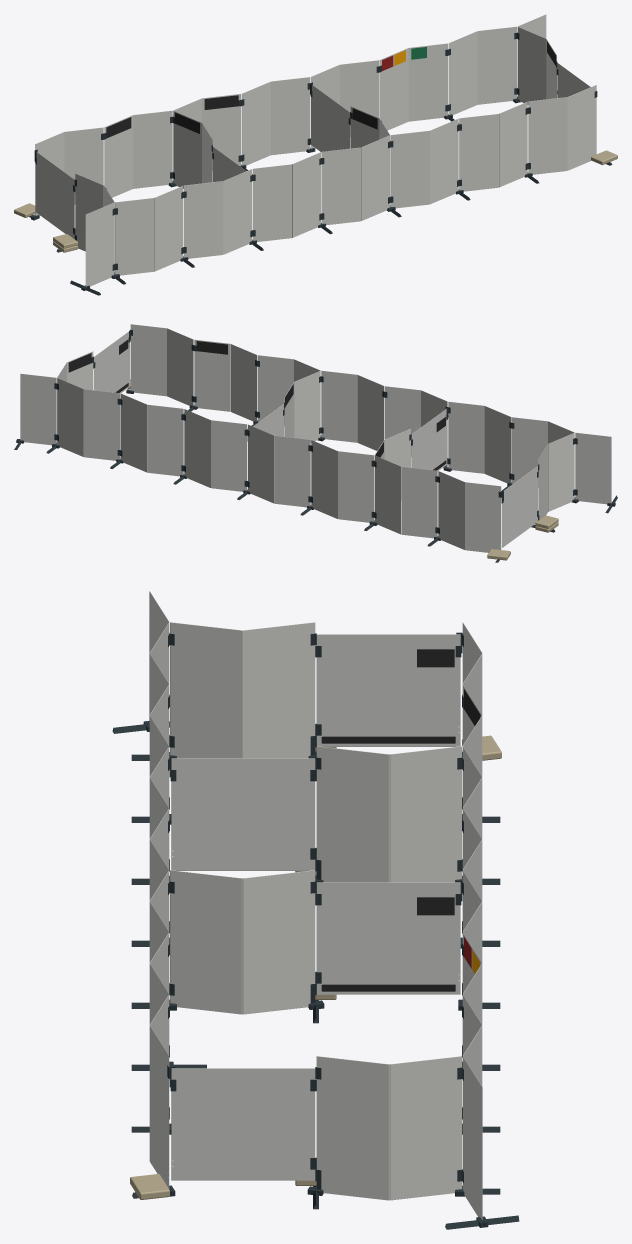
3 views of the same model, one above another, from view 1: azimuth 30°, elevation 25°; view 2: azimuth 150°, elevation 25°; view 3: azimuth 270°, elevation 25° (orthographic). The views are drawn at different scales.
Parts seen in each view (by area): view 1: P12 duo, wall A 2, P12 duo, wall A 6, P12 duo, wall A 4, P12 duo, wall B 7, P12 duo, wall A 1, P12 duo, wall B 4, P12 duo, wall A 5, P12 duo, wall A 7, P12 duo, wall A 3, P12 duo, wall B 2, P12 duo, wall B 6, P12 duo, wall B 1 (+13 smaller); view 2: P12 duo, wall A 2, P12 duo, wall B 6, P12 duo, wall A 7, P12 duo, wall B 7, P12 duo, wall B 5, P12 duo, wall B 3, P12 duo, wall B 1, P12 duo, wall B 4, P12 duo, wall B 2, P12 duo, wall A 4, P12 duo, wall A 6, L12 corner tail leaf, A0 (+13 smaller); view 3: P12 duo, stub divider 2, P12 duo, stub right end, P12 duo, stub divider 1, P12 duo, stub left end, Flap leaf, door 1, Flap leaf, exit, Flap leaf, door 2, Flap leaf, entry, P12 duo, wall A 7, L12 corner tail leaf, B7, P12 duo, wall B 1, P12 duo, wall B 3 (+13 smaller).
Part boxes in pixels (x1,y1,x2,y2): P12 duo, wall A 2: (184,169,252,258); P12 duo, wall A 6: (459,102,527,191); P12 duo, wall A 4: (321,135,389,225); P12 duo, wall B 7: (448,26,516,114); P12 duo, wall A 1: (115,186,183,275); P12 duo, wall B 4: (242,77,310,165); P12 duo, wall A 5: (390,118,458,208); P12 duo, wall A 7: (528,85,596,174); P12 duo, wall A 3: (253,152,320,241); P12 duo, wall B 2: (104,110,172,197); P12 duo, wall B 6: (379,43,447,130); P12 duo, wall B 1: (35,127,103,215); P12 duo, wall A 2: (448,401,511,483); P12 duo, wall B 6: (120,393,183,476); P12 duo, wall A 7: (130,324,193,405); P12 duo, wall B 7: (57,378,120,460); P12 duo, wall B 5: (184,409,247,491); P12 duo, wall B 3: (311,440,374,522); P12 duo, wall B 1: (438,471,501,552); P12 duo, wall B 4: (248,424,310,507); P12 duo, wall B 2: (375,455,437,538); P12 duo, wall A 4: (321,370,383,450); P12 duo, wall A 6: (194,339,256,421); L12 corner tail leaf, A0: (575,432,611,504); P12 duo, stub divider 2: (170,870,315,1014); P12 duo, stub right end: (316,1056,461,1200); P12 duo, stub divider 1: (316,746,461,882); P12 duo, stub left end: (170,622,315,758); Flap leaf, door 1: (171,758,315,870); Flap leaf, exit: (171,1068,315,1180); Flap leaf, door 2: (316,882,460,994); Flap leaf, entry: (316,634,460,746); P12 duo, wall A 7: (149,994,169,1188); L12 corner tail leaf, B7: (462,1056,482,1220); P12 duo, wall B 1: (462,622,482,714); P12 duo, wall B 3: (462,746,482,838).
Size of the model in its own units: 9.57 by 1.21 by 3.25.
